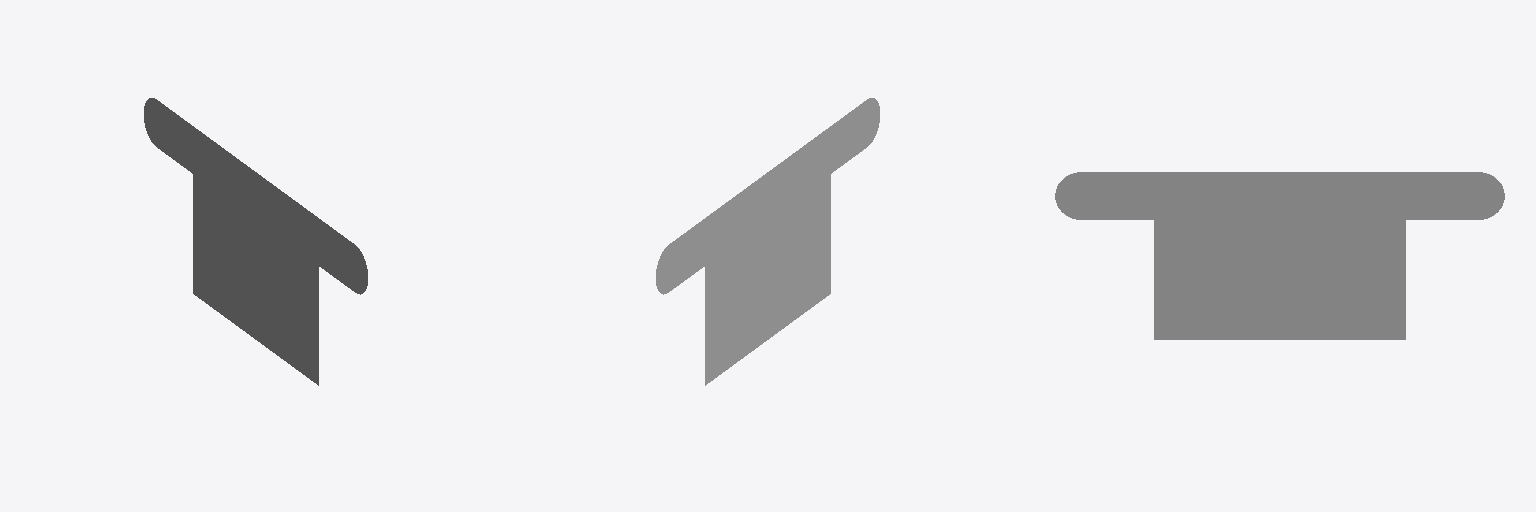
File: kw6s_model_spine.obj
3 views of the same model, side by side, from view 1: azimuth 30°, elevation 25°; view 2: azimuth 150°, elevation 25°; view 3: azimuth 270°, elevation 25° (orthographic).
Parts seen in each view (by area): view 1: Track_Section; view 2: Track_Section; view 3: Track_Section.
Part boxes in pixels (x1,y1,x2,y2): Track_Section: (144, 98, 367, 385); Track_Section: (656, 98, 879, 385); Track_Section: (1055, 172, 1504, 339).
Size of the model in its own units: 0 by 0.014 by 0.034.